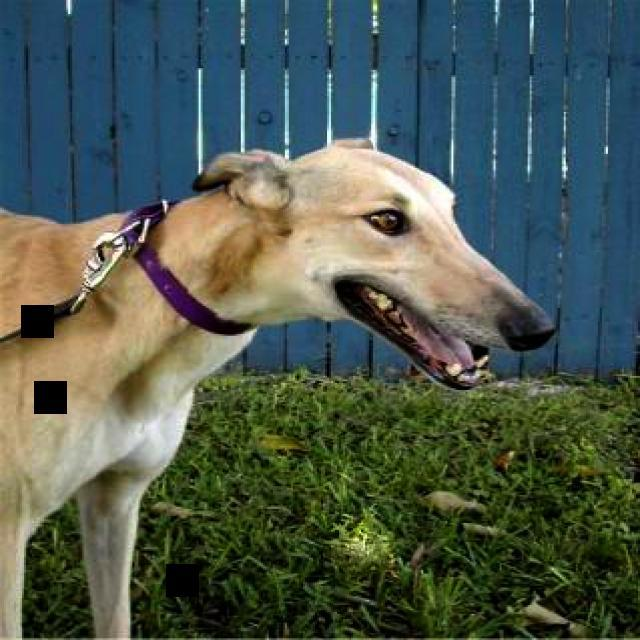adult_dog: (0, 137, 556, 640)
